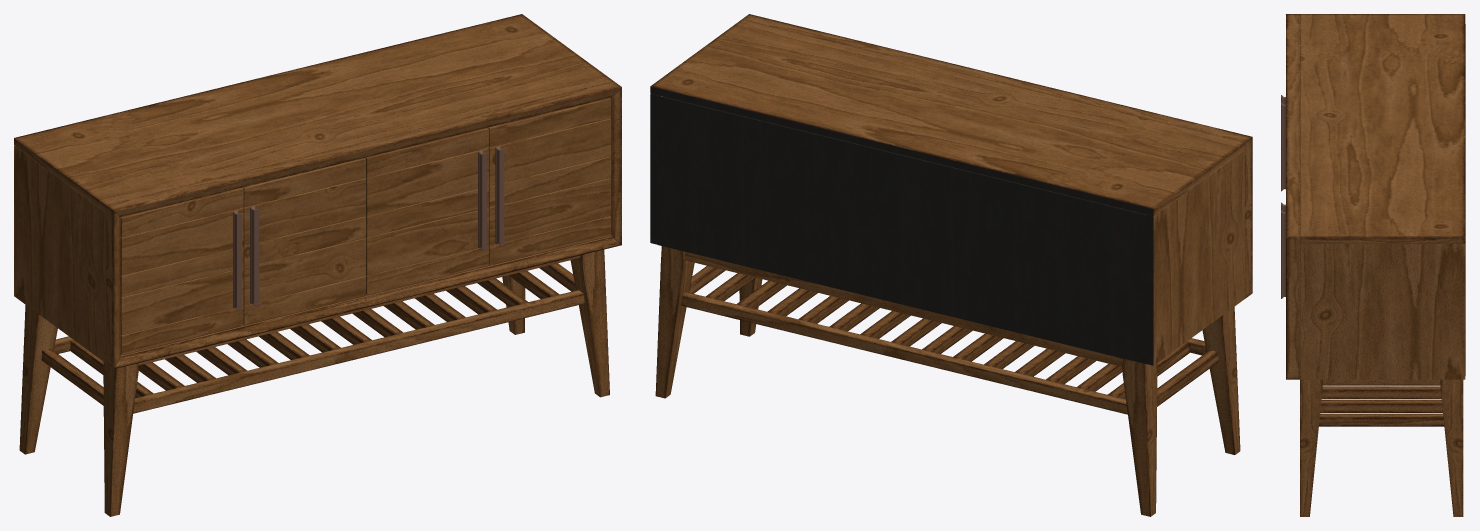
Rendered from ian_mid_century_bar_credenza.glb.
3 views of the same model, side by side, from view 1: azimuth 30°, elevation 25°; view 2: azimuth 150°, elevation 25°; view 3: azimuth 270°, elevation 25° (orthographic). The views are drawn at different scales.
Visible parts, largest first — view 1: RootNode; view 2: RootNode; view 3: RootNode.
Boxes of the visible parts, <box> form: RootNode: <box>14,14,621,516</box>; RootNode: <box>650,14,1252,516</box>; RootNode: <box>1281,14,1465,516</box>.
Size of the model in its own units: 1.36 by 0.8023 by 0.4769.
Materials: 1 (1 with a texture image).
